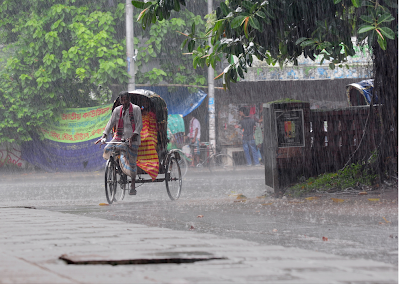Rickshaw: (102, 85, 184, 204)
